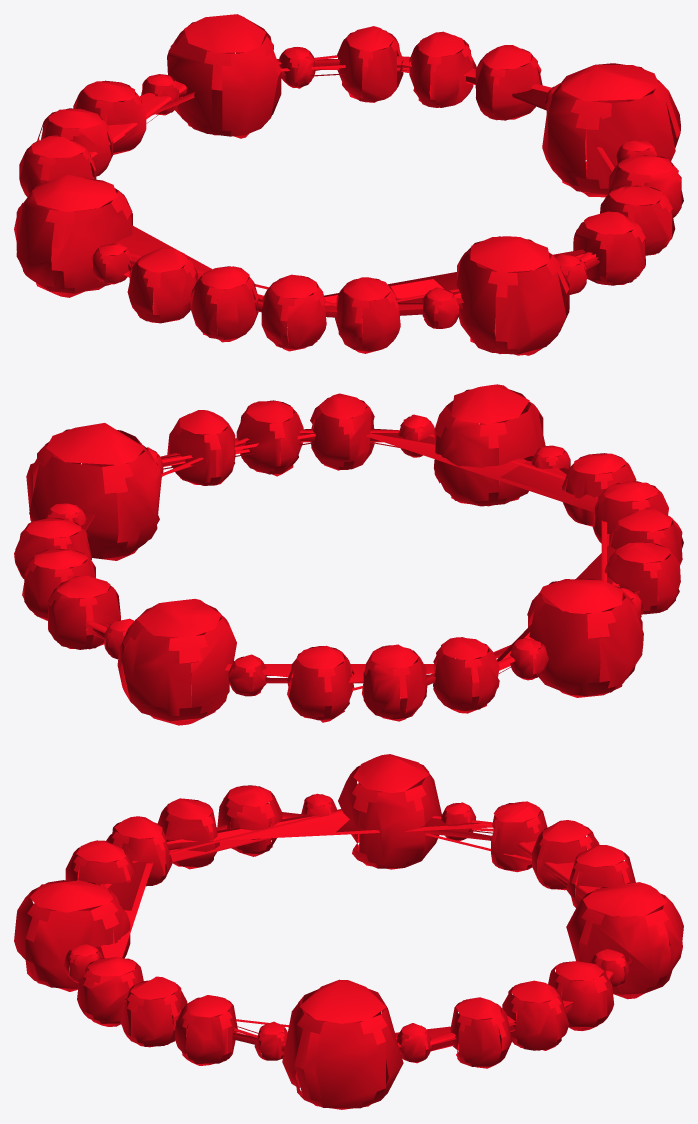
The model's file is braclette.fbx.
3 views of the same model, one above another, from view 1: azimuth 30°, elevation 25°; view 2: azimuth 150°, elevation 25°; view 3: azimuth 270°, elevation 25° (orthographic). The views are drawn at different scales.
Parts seen in each view (by area): view 1: Object_2; view 2: Object_2; view 3: Object_2.
Boxes of the visible parts, x1,y1,x2,y2 form: Object_2: (14,14,683,355); Object_2: (14,384,683,725); Object_2: (14,754,683,1109).
Size of the model in its own units: 2853 by 561 by 2851.
